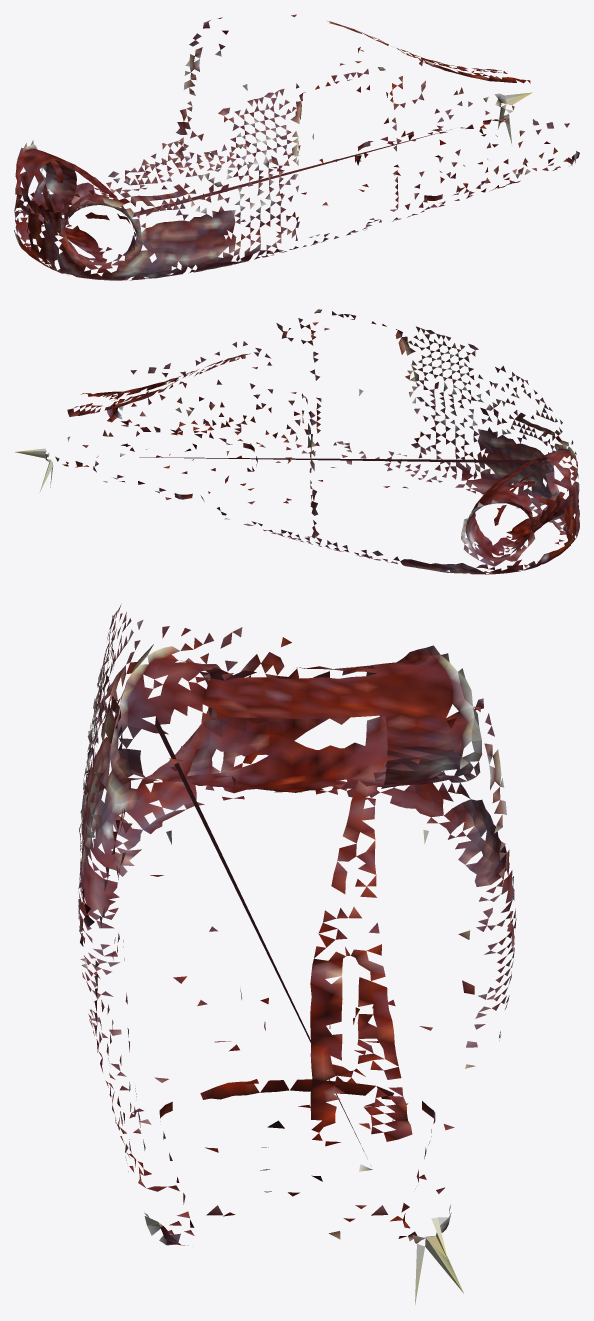
File: whistle_final800.obj
3 views of the same model, one above another, from view 1: azimuth 30°, elevation 25°; view 2: azimuth 150°, elevation 25°; view 3: azimuth 270°, elevation 25° (orthographic). The views are drawn at different scales.
Size of the model in its own units: 2.01 by 0.6693 by 0.7404.
